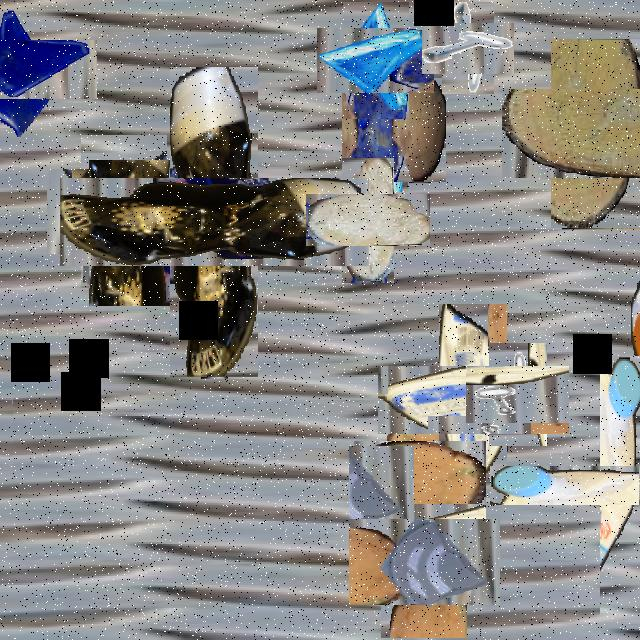glass: (364, 502, 484, 622), (64, 152, 184, 271), (330, 15, 422, 106), (342, 75, 408, 192), (0, 21, 78, 118), (0, 323, 13, 473)
metal: (478, 354, 558, 435), (432, 12, 504, 84)
plastic: (114, 123, 314, 321), (89, 160, 251, 306), (408, 335, 538, 465), (545, 410, 640, 560), (631, 222, 640, 404)
wood: (526, 64, 640, 202), (362, 427, 472, 537), (324, 176, 412, 265), (392, 78, 446, 182)
